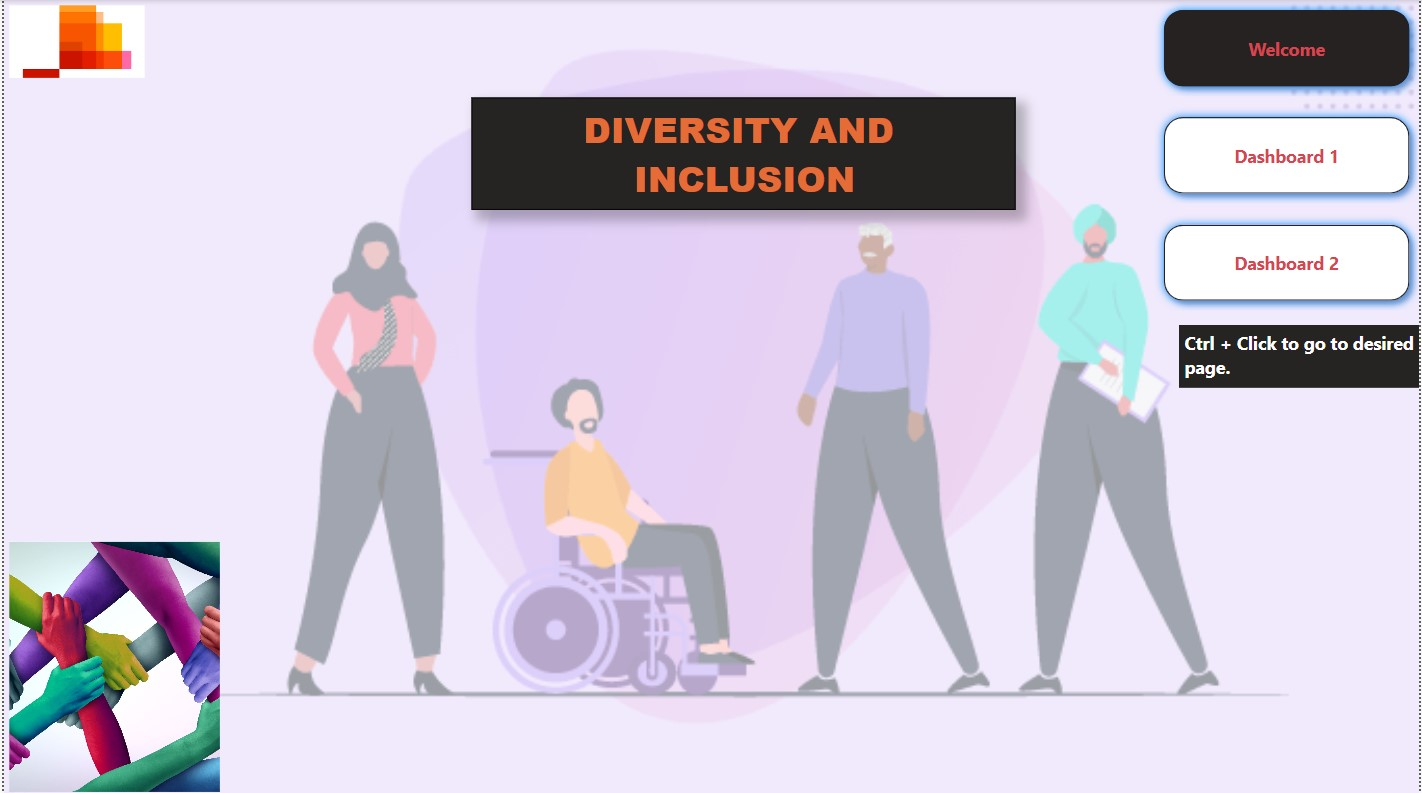

The dashboard page shown, as its layout file describes it:
{"tool":"powerbi","page":{"name":"Welcome","canvas":[1280,720],"ordinal":0},"visuals":[{"type":"textbox","box":[422.3,87.7,492.2,101.5],"z":0},{"type":"pageNavigator","box":[1039.9,0,240.5,283.5],"z":1000},{"type":"image","box":[0,484.5,199.9,235.9],"z":2000},{"type":"textbox","box":[1062,294,218.4,56.9],"z":3000},{"type":"image","box":[0,0,132.5,75.5],"z":4000}]}

Visuals, with their boxes in screenshot pixels (x1, y1, x2, y2), scaled from the page's 1280x720 canvas onto the 1422x793 screenshot:
textbox: bbox=[469, 97, 1016, 208]
pageNavigator: bbox=[1155, 0, 1421, 312]
image: bbox=[0, 534, 222, 792]
textbox: bbox=[1180, 324, 1421, 386]
image: bbox=[0, 0, 147, 83]
